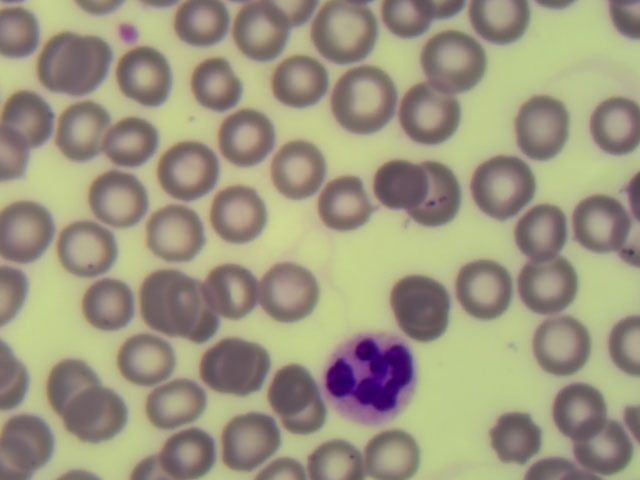Platelets: (111, 18, 140, 43)
RBC: (58, 217, 117, 273), (586, 423, 640, 480), (369, 423, 423, 480), (159, 423, 213, 480), (57, 33, 111, 89), (4, 85, 58, 141), (51, 101, 105, 157), (106, 112, 160, 168), (123, 45, 177, 101), (170, 2, 224, 58), (190, 61, 244, 117), (224, 104, 278, 160), (165, 140, 219, 196), (94, 171, 148, 227), (3, 199, 57, 255), (79, 276, 133, 332), (145, 274, 199, 330), (143, 205, 197, 261), (216, 189, 270, 245), (268, 137, 322, 193), (319, 176, 373, 232), (372, 161, 426, 217), (405, 162, 459, 218), (402, 85, 456, 141), (428, 31, 482, 87), (318, 5, 372, 61), (340, 71, 394, 127), (274, 56, 328, 112), (238, 8, 292, 64), (477, 158, 531, 214), (515, 96, 569, 152), (585, 95, 639, 151), (576, 194, 630, 250), (510, 203, 564, 259), (524, 253, 578, 309), (537, 317, 591, 373), (555, 383, 609, 439), (486, 405, 540, 461), (452, 266, 506, 322), (396, 286, 450, 342), (259, 265, 313, 321), (215, 262, 269, 318), (181, 282, 235, 338), (198, 336, 252, 392), (268, 364, 322, 420), (290, 388, 344, 444), (227, 412, 281, 468), (151, 378, 205, 434), (118, 334, 172, 390), (75, 390, 129, 446), (42, 358, 96, 414)
WBC: (316, 327, 430, 426)
